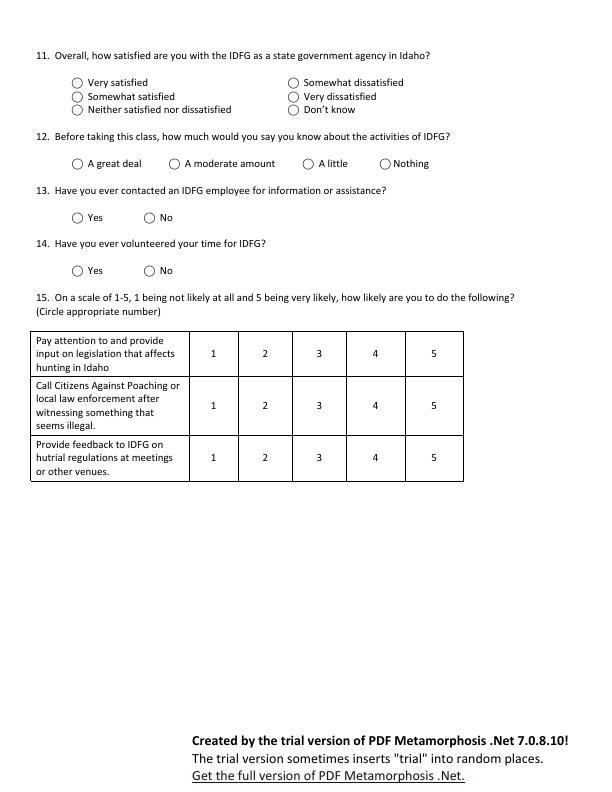check_box: (141, 263, 156, 280), (69, 74, 85, 89), (299, 157, 315, 172), (285, 75, 301, 89), (142, 210, 156, 226), (70, 104, 85, 118), (287, 104, 302, 118), (70, 210, 84, 225), (69, 264, 85, 277), (69, 158, 86, 170), (167, 158, 182, 171), (378, 158, 391, 173), (285, 91, 302, 102), (69, 91, 85, 102)
table: (23, 324, 470, 486)
text: (181, 731, 575, 787), (31, 288, 521, 321), (32, 44, 435, 66), (33, 132, 453, 145), (33, 185, 388, 197), (33, 236, 269, 252), (87, 103, 236, 118), (302, 76, 407, 89), (86, 91, 181, 103), (185, 158, 277, 170), (85, 74, 152, 89), (303, 90, 381, 102), (88, 157, 143, 171), (303, 105, 363, 117), (394, 153, 431, 171), (318, 157, 351, 170), (87, 260, 106, 279), (87, 210, 105, 223), (158, 262, 173, 277), (160, 210, 173, 224)
